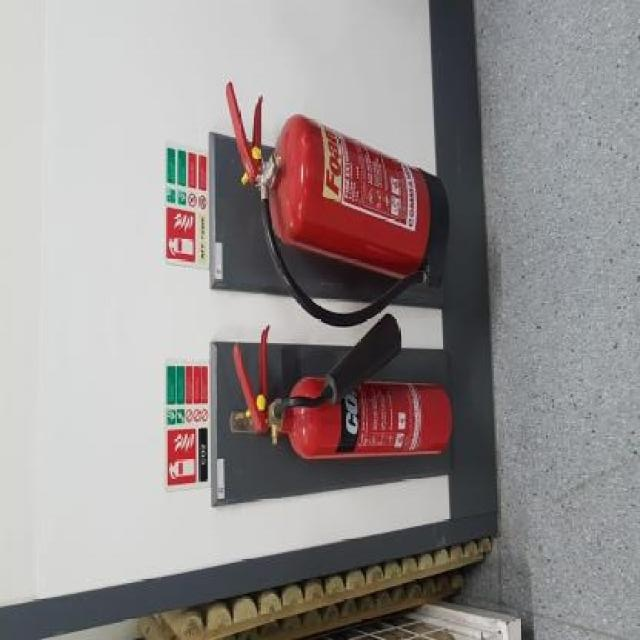fire extinguisher: (225, 80, 449, 331), (232, 314, 453, 460)
